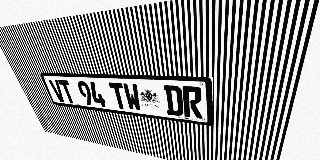4: (87, 81, 107, 107)
9: (76, 81, 95, 106)
D: (163, 85, 184, 116)
R: (182, 86, 202, 119)
T: (108, 82, 128, 110), (58, 80, 77, 104)
V: (48, 79, 67, 102)
W: (122, 83, 142, 112)
